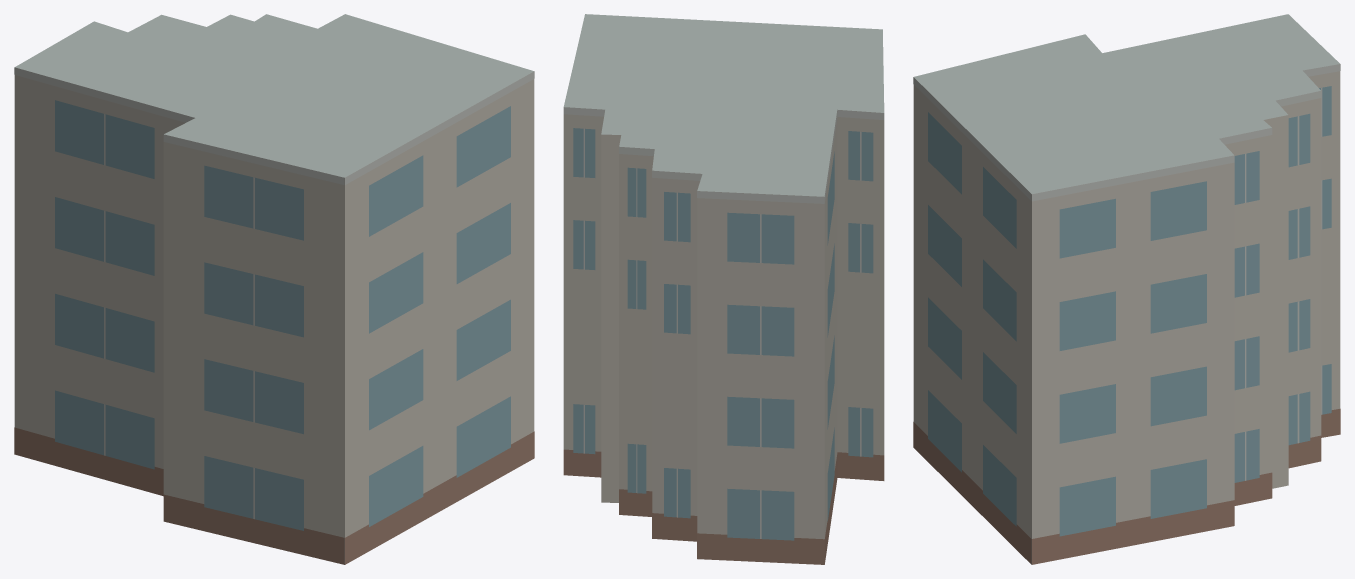
The model's file is survey-upis-32604142.glb.
3 views of the same model, side by side, from view 1: azimuth 30°, elevation 25°; view 2: azimuth 150°, elevation 25°; view 3: azimuth 270°, elevation 25° (orthographic). The views are drawn at different scales.
Parts seen in each view (by area): view 1: survey-upis-32604142.tmp; view 2: survey-upis-32604142.tmp; view 3: survey-upis-32604142.tmp.
Part boxes in pixels (box(x1,y1,x2,y2)): survey-upis-32604142.tmp: box(14, 14, 534, 564); survey-upis-32604142.tmp: box(563, 14, 884, 564); survey-upis-32604142.tmp: box(913, 14, 1340, 564).
Bounding box in the file's own units: 13.1 × 12.55 × 13.12.
